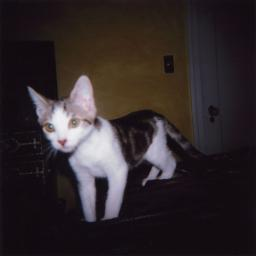catnose: (57, 138, 67, 146)
